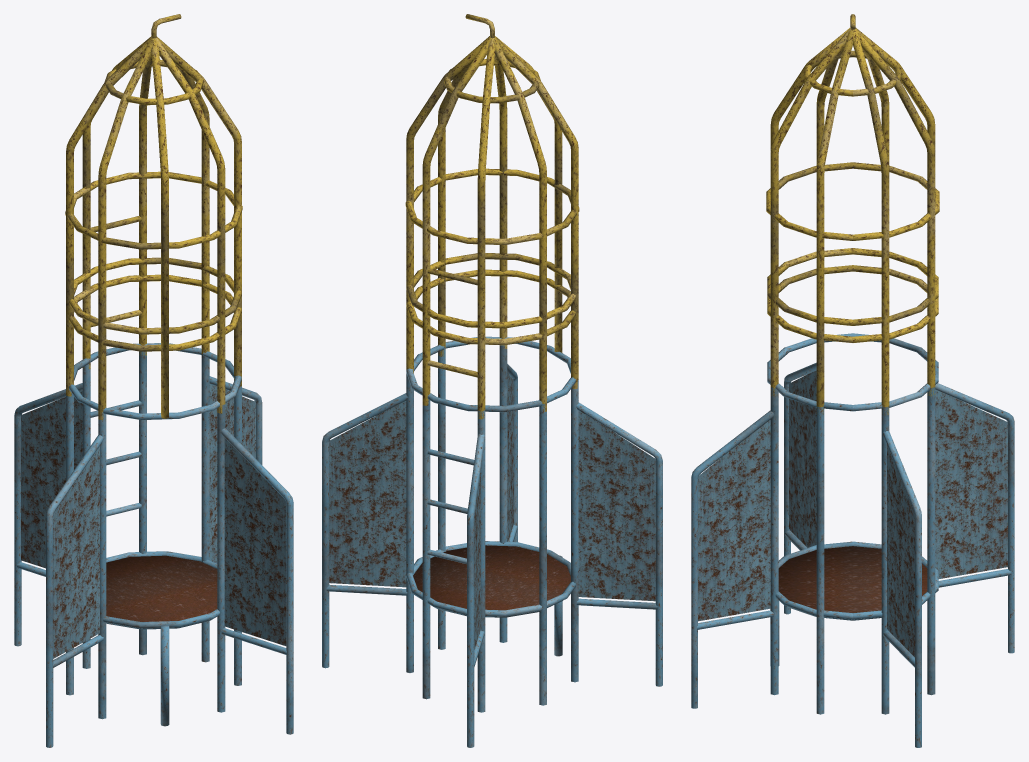
The model's file is playground_rocket_lod1_web.glb.
The picture shows the model from 3 angles, left to right: view 1: azimuth 30°, elevation 25°; view 2: azimuth 150°, elevation 25°; view 3: azimuth 270°, elevation 25°; orthographic projection.
Visible parts, largest first — view 1: Rocket_Mesh; view 2: Rocket_Mesh; view 3: Rocket_Mesh.
Part boxes in pixels (x1,y1,x2,y2): Rocket_Mesh: (14, 14, 293, 747); Rocket_Mesh: (322, 14, 662, 747); Rocket_Mesh: (691, 14, 1014, 747).
Size of the model in its own units: 1.72 by 3.91 by 1.72.
4 materials, 4 textured.
